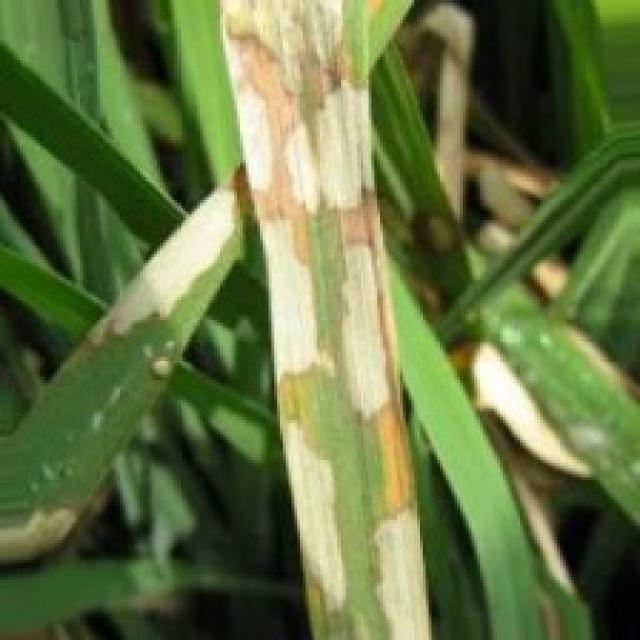Bacterial_Blight: (332, 242, 443, 438), (226, 196, 327, 404), (357, 500, 457, 640)
